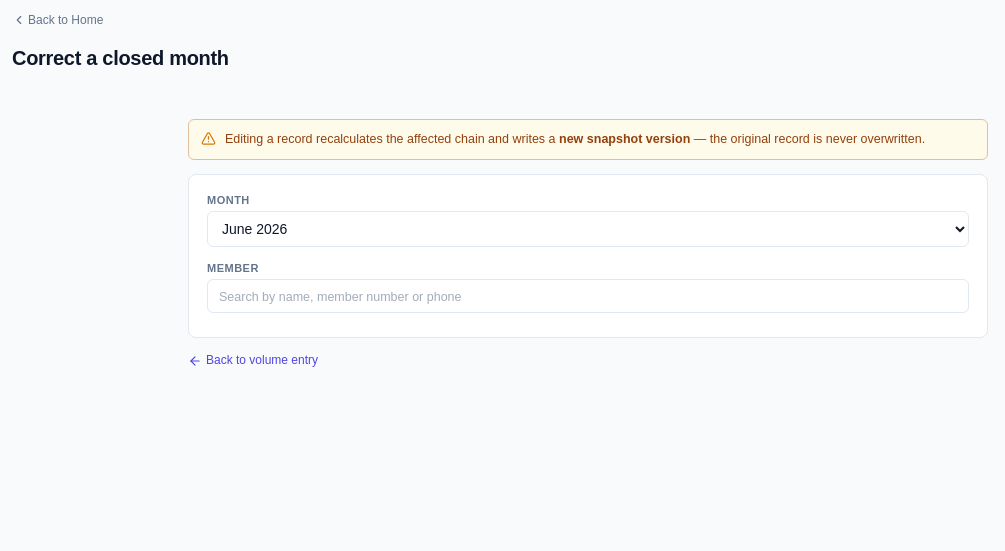
Test: CorrectionPanel › defaults to the first closed month and lets the operator search and pick a member
Type "Asha" into the field labelled "Member" at (588, 296), box [207, 279, 969, 313]
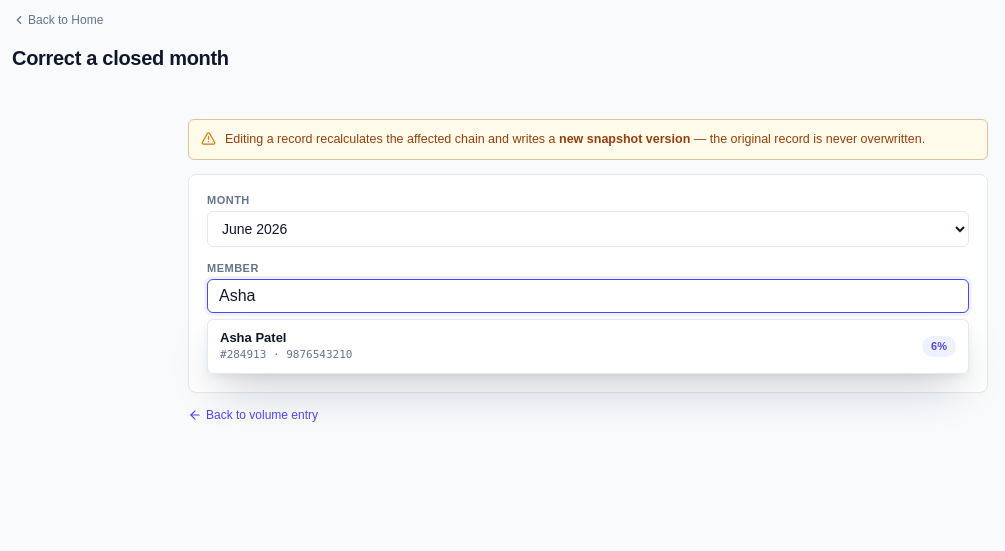
Click the text "Asha Patel" at (253, 338), box [220, 329, 286, 347]
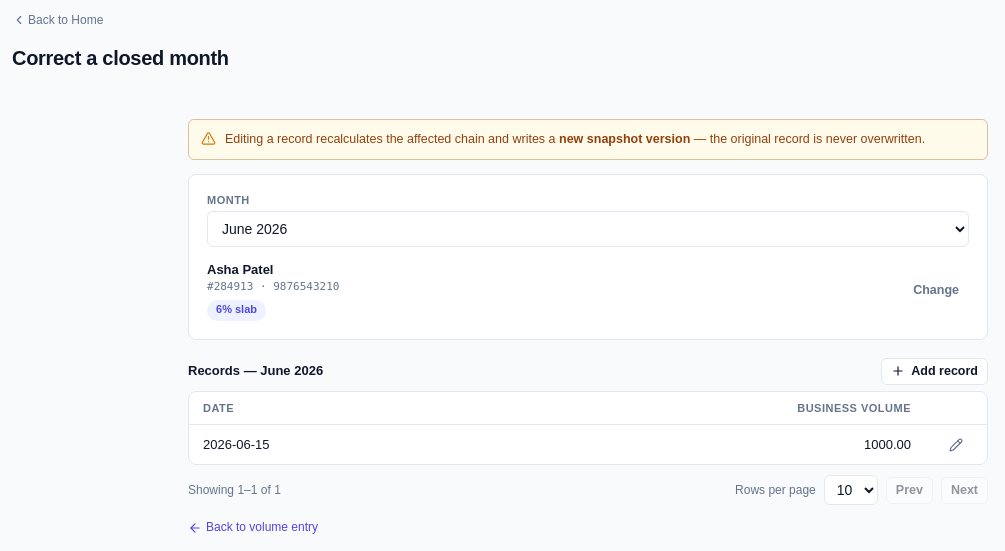
Check: the text "6% slab" is shown, box [207, 300, 266, 320]
Check: the text "2026-06-15" is shown, box [189, 424, 483, 464]
Check: the text "1000.00" is shown, box [864, 437, 911, 452]
